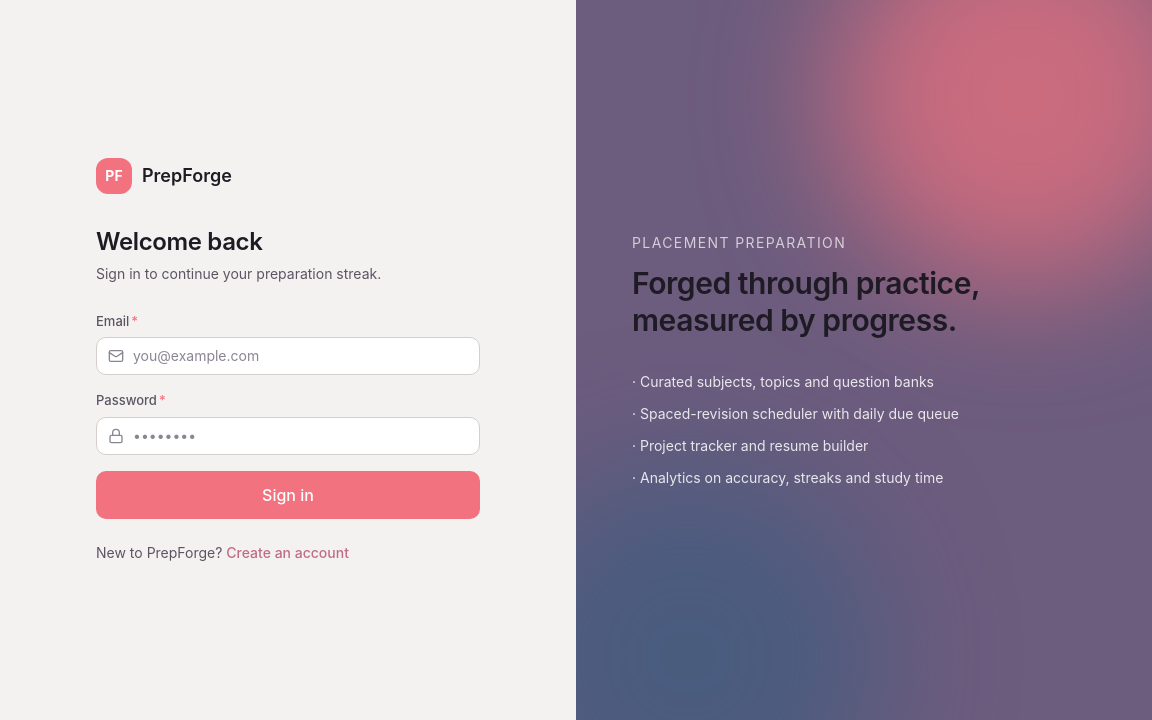
Test: LoginPage › surfaces a backend error message when sign in fails
Type "ada@example.com" into the field labelled "Email*" at (288, 356), box 96,337 -> 480,375
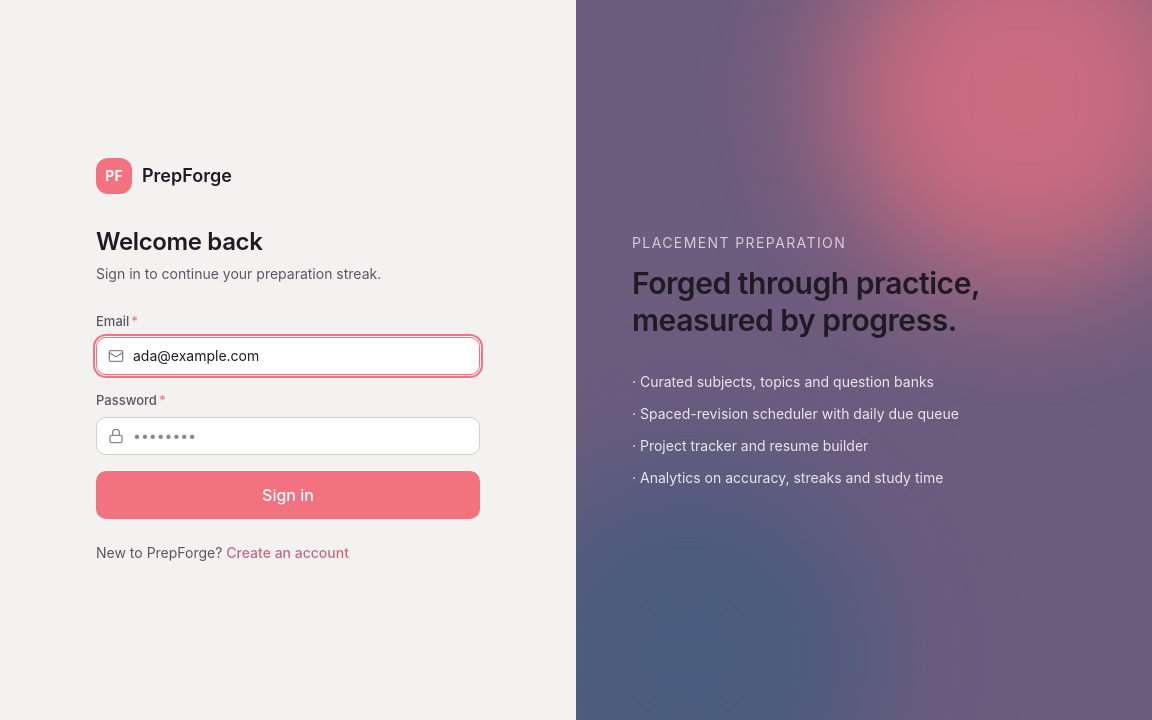
Type "wrongpassword" into the password field labelled "Password*" at (288, 436), box 96,416 -> 480,454
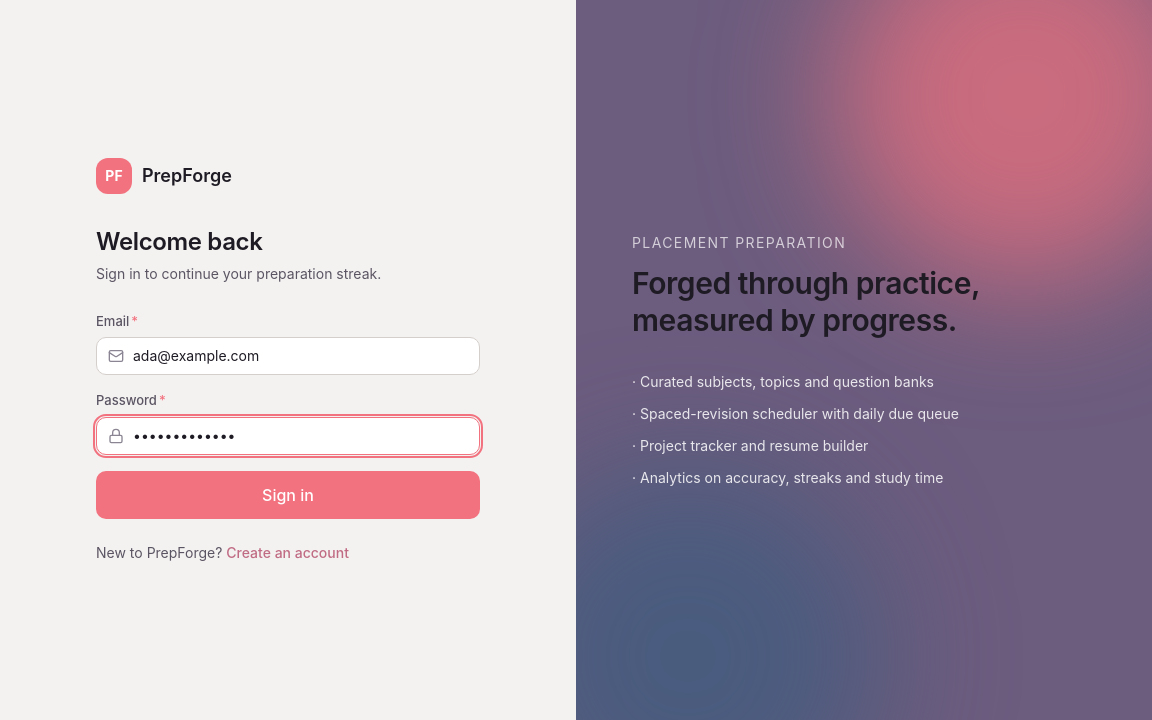
Click the button "Sign in" at (288, 494), box 96,470 -> 480,518
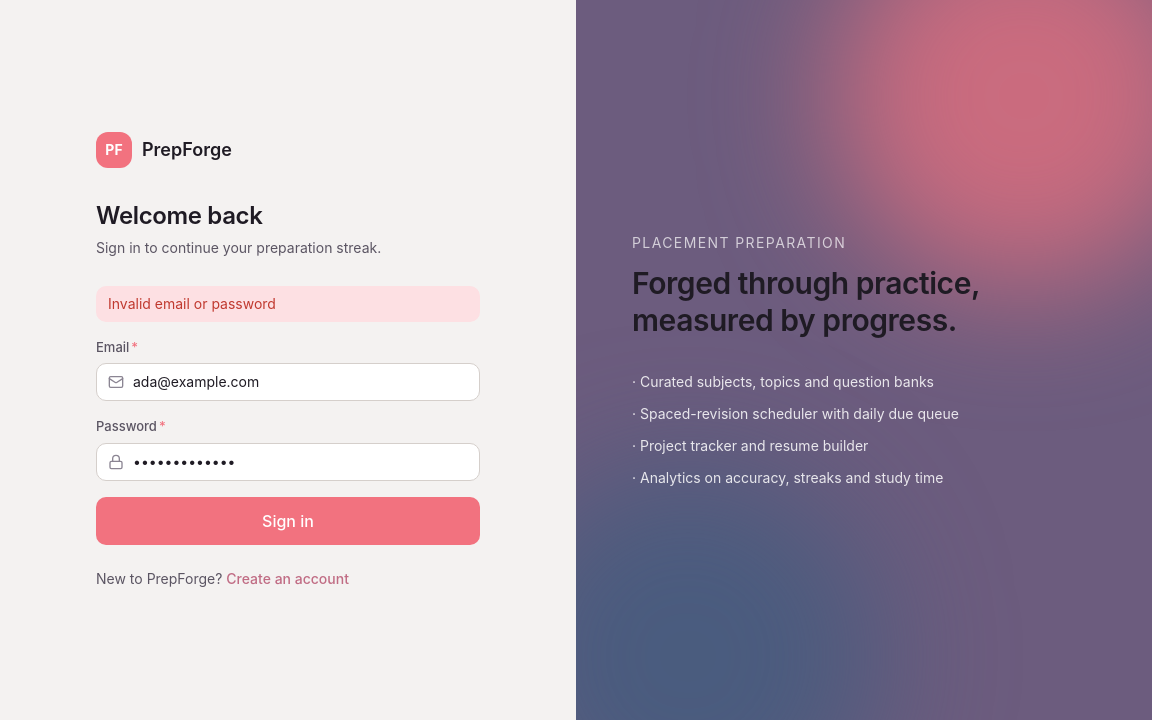
Now the message reads "Invalid email or password", box 108,294 -> 276,312
